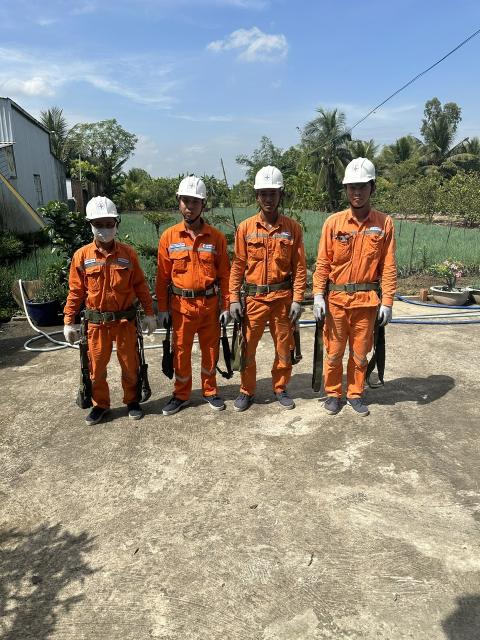gloves: (308, 290, 333, 324), (226, 299, 252, 323), (153, 308, 177, 330), (377, 304, 394, 330), (61, 324, 82, 344), (282, 302, 303, 322), (138, 315, 155, 335), (213, 313, 232, 328)
harness: (82, 291, 145, 330), (162, 274, 221, 305), (317, 278, 396, 297), (230, 276, 296, 298)
helmet: (72, 192, 128, 229), (173, 161, 213, 212), (333, 155, 385, 192), (249, 161, 296, 194)
shoes: (344, 393, 378, 421), (262, 388, 300, 413), (157, 393, 194, 417), (83, 401, 111, 430), (228, 391, 256, 416), (125, 392, 144, 424), (199, 391, 227, 412), (320, 396, 341, 418)
